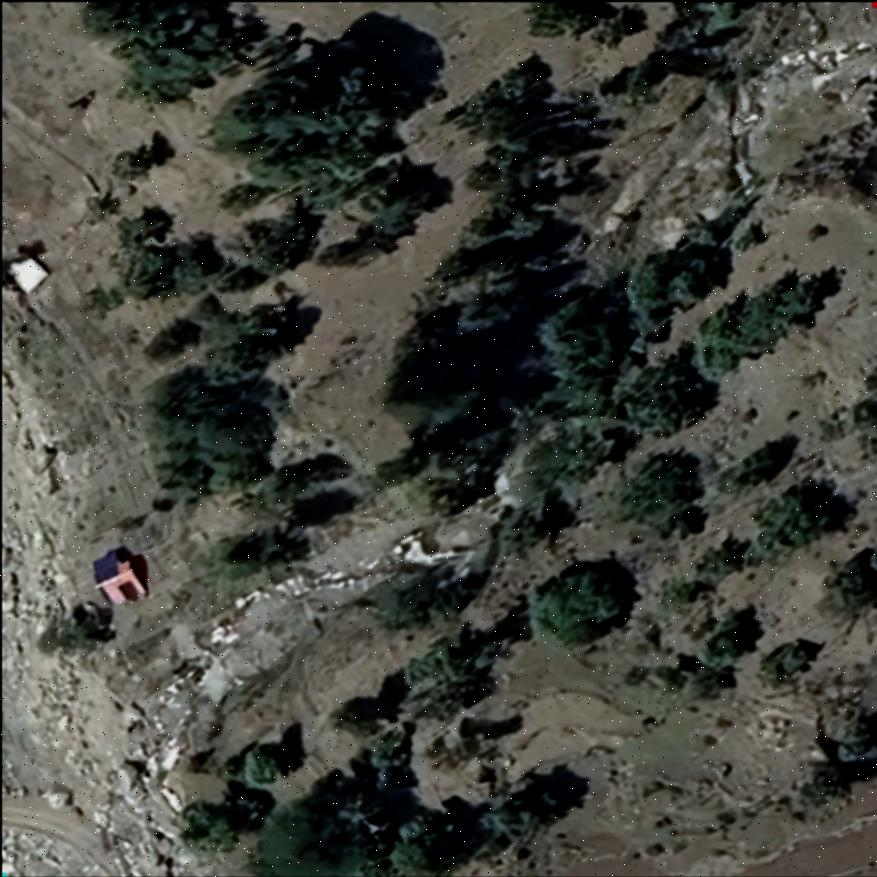Solarpanel: (89, 550, 118, 587)
